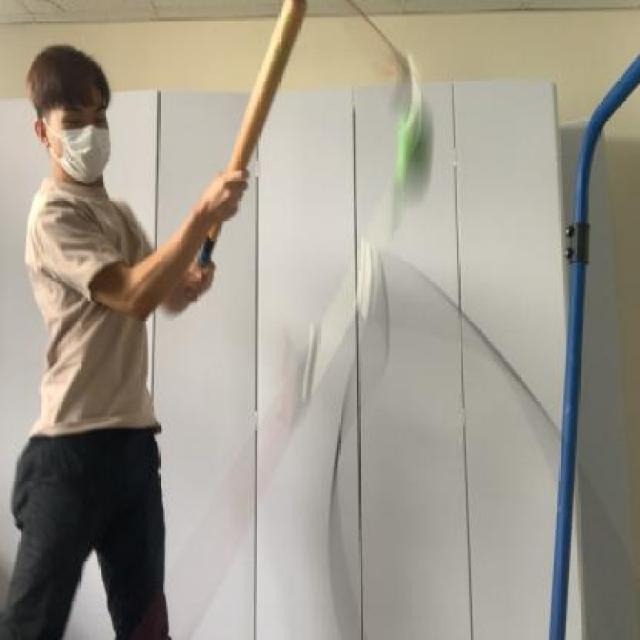baseball: (379, 94, 443, 208)
